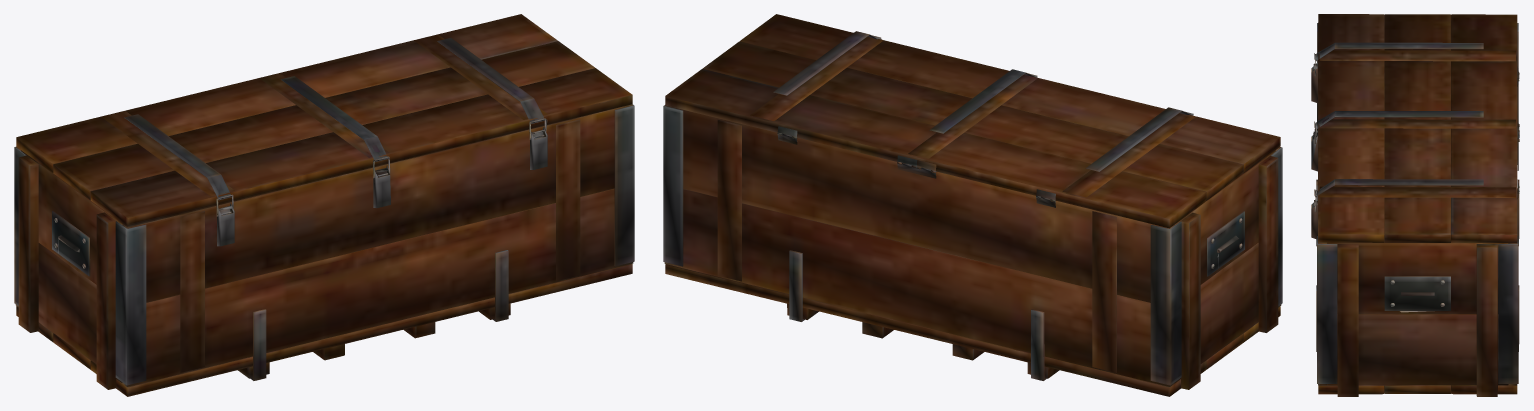
The model's file is crateRifle_lo.glb.
The picture shows the model from 3 angles, left to right: view 1: azimuth 30°, elevation 25°; view 2: azimuth 150°, elevation 25°; view 3: azimuth 270°, elevation 25°; orthographic projection. The views are drawn at different scales.
Parts seen in each view (by area): view 1: wooden_military_crate, wooden_military_crate_lid; view 2: wooden_military_crate, wooden_military_crate_lid; view 3: wooden_military_crate_lid, wooden_military_crate.
Boxes of the visible parts, left/top/right/bottom form: wooden_military_crate: left=14, top=104, right=634, bottom=396; wooden_military_crate_lid: left=16, top=14, right=632, bottom=227; wooden_military_crate: left=663, top=105, right=1282, bottom=396; wooden_military_crate_lid: left=665, top=14, right=1280, bottom=228; wooden_military_crate_lid: left=1314, top=14, right=1519, bottom=243; wooden_military_crate: left=1311, top=23, right=1519, bottom=396.
Size of the model in its own units: 1.24 by 0.464 by 0.4801.
1 material, 1 textured.
